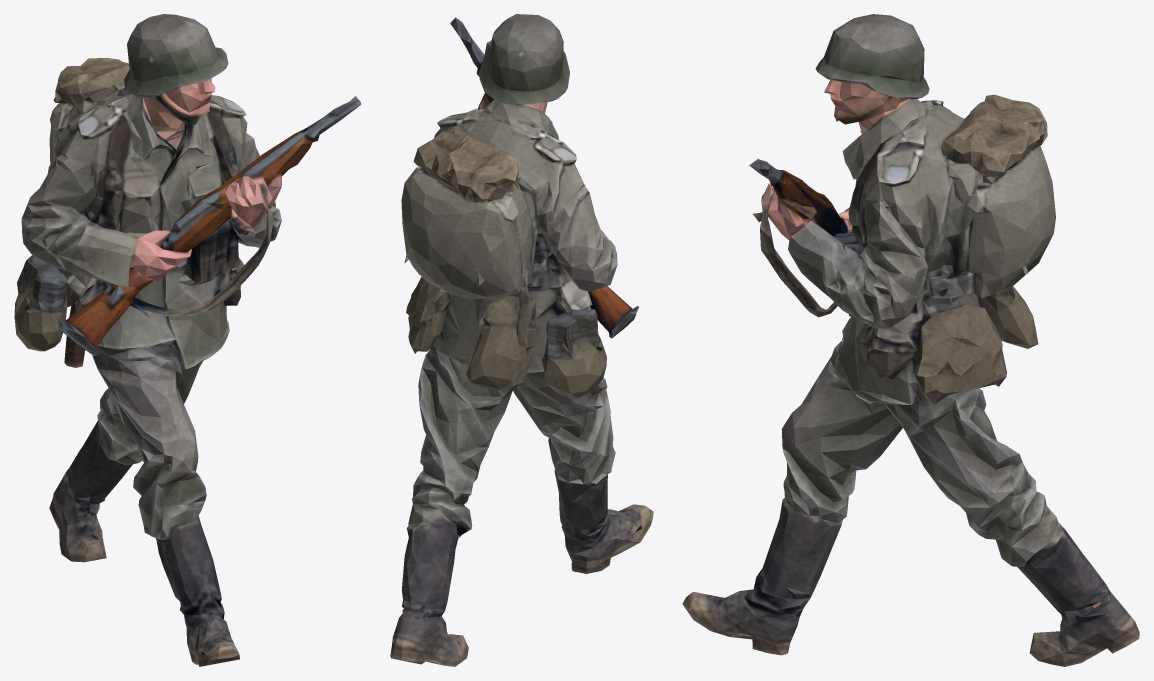
The model's file is inf_walk_b.obj.
3 views of the same model, side by side, from view 1: azimuth 30°, elevation 25°; view 2: azimuth 150°, elevation 25°; view 3: azimuth 270°, elevation 25° (orthographic). The views are drawn at different scales.
Visible parts, largest first — view 1: inf_walk_b; view 2: inf_walk_b; view 3: inf_walk_b.
Boxes of the visible parts, box(x1,y1,x2,y2) form: inf_walk_b: box(14, 14, 361, 666); inf_walk_b: box(390, 14, 653, 666); inf_walk_b: box(682, 14, 1139, 666).
Bounding box in the file's own units: 0.7839 × 1.8 × 1.17.
Materials: 1 (1 with a texture image).
